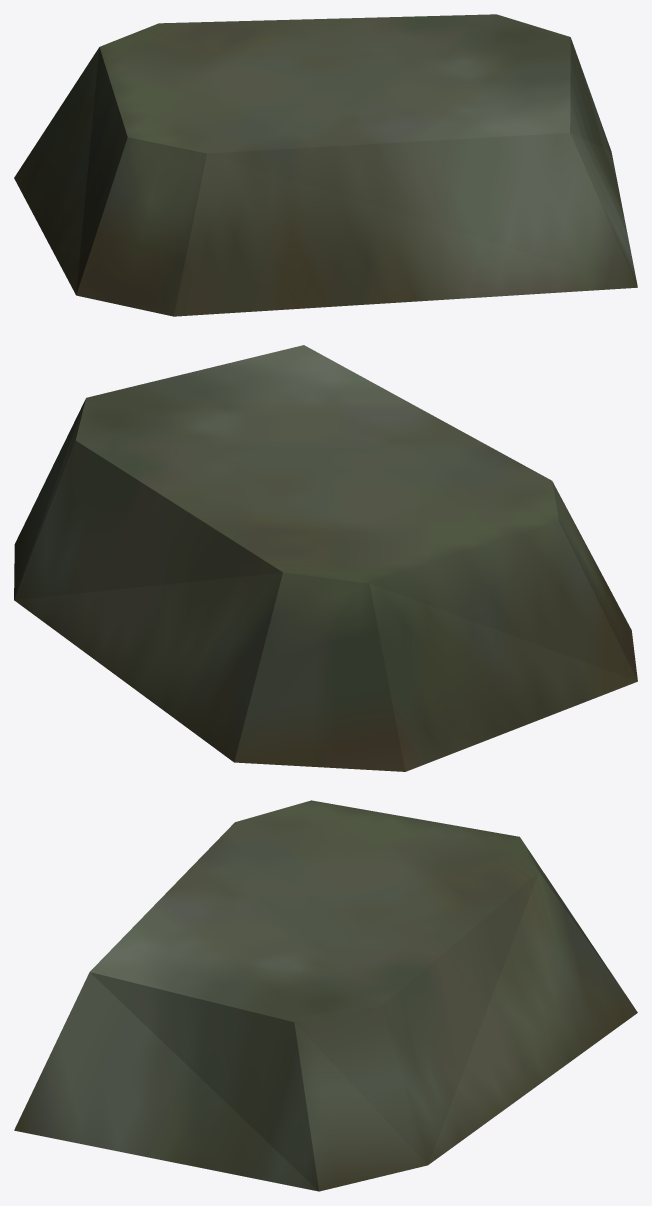
Rendered from road_rock_03.fbx.
The picture shows the model from 3 angles, top to bottom: view 1: azimuth 30°, elevation 25°; view 2: azimuth 150°, elevation 25°; view 3: azimuth 270°, elevation 25°; orthographic projection. The views are drawn at different scales.
Parts seen in each view (by area): view 1: obj0.075; view 2: obj0.075; view 3: obj0.075.
Boxes of the visible parts, x1=… form: obj0.075: x1=14, y1=14, x2=637, y2=316; obj0.075: x1=14, y1=345, x2=637, y2=771; obj0.075: x1=14, y1=800, x2=637, y2=1191.
Size of the model in its own units: 0.7438 by 0.1764 by 0.7003.
